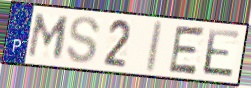2: (103, 19, 133, 70)
E: (201, 27, 242, 80), (166, 24, 207, 77)
I: (143, 19, 165, 74)
M: (26, 11, 72, 60)
S: (65, 15, 102, 66)
